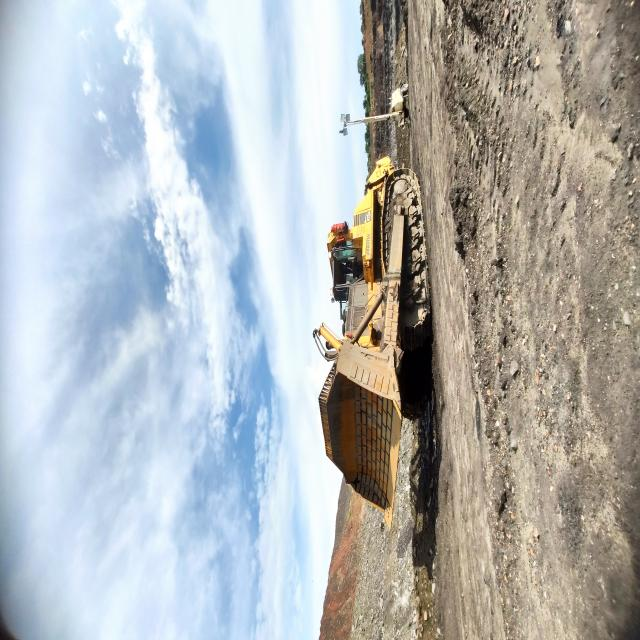buldozerpayloadergrader: (80, 555, 246, 640)
